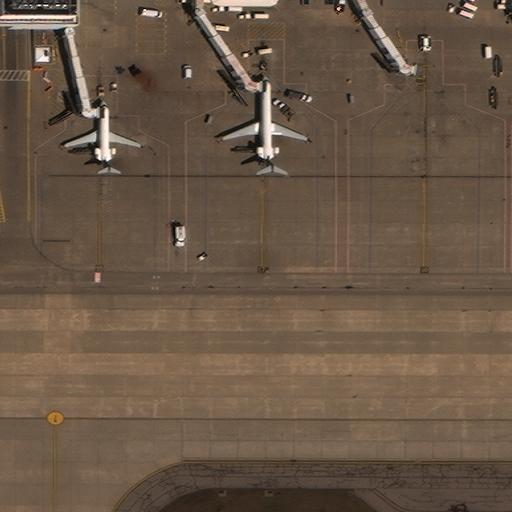Medium Civil Transport: (222, 75, 307, 172), (64, 99, 140, 173)
